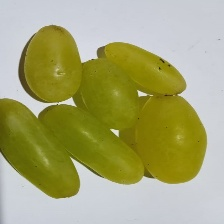grapes: (47, 24, 200, 189)
